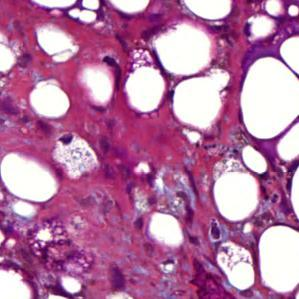steatosis: (0, 152, 59, 203), (127, 63, 167, 116), (30, 83, 78, 120)
